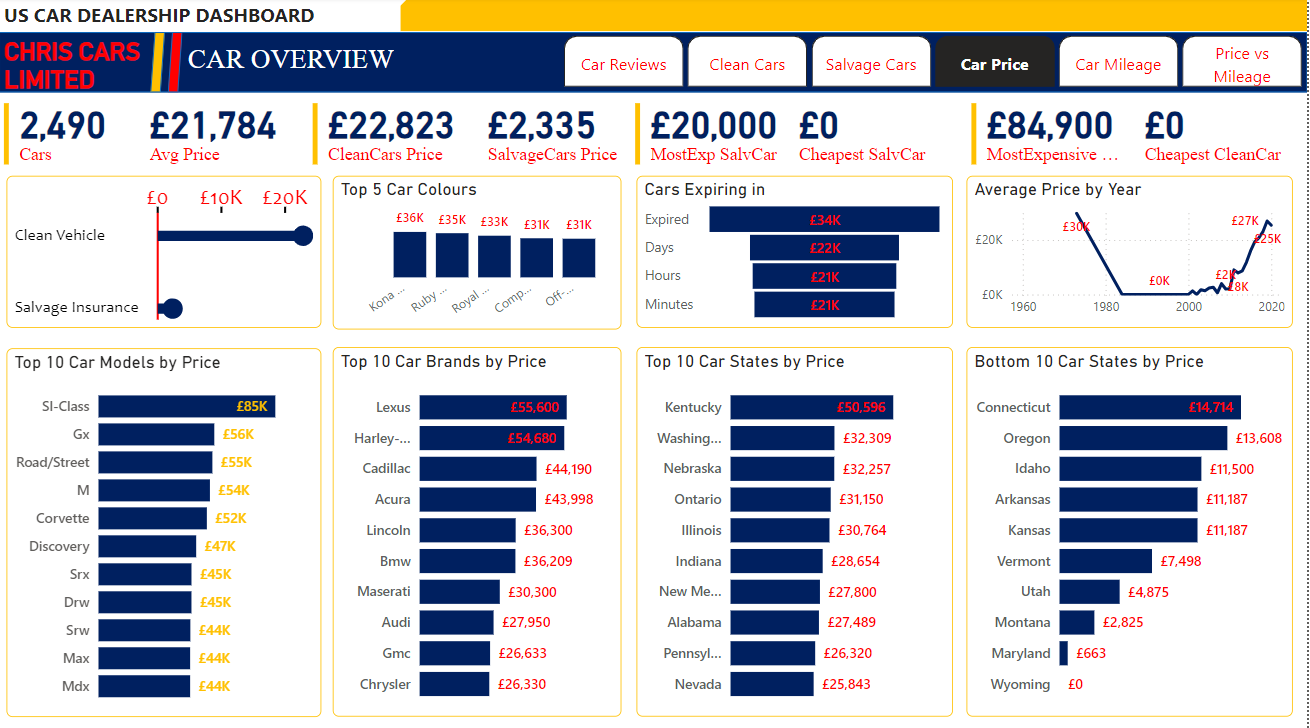

Layout of this report page (visuals, bound fields, positions):
{"tool":"powerbi","page":{"name":"Car Price","canvas":[1280,720],"ordinal":3},"visuals":[{"type":"shape","box":[148.4,33.8,14.5,59.1],"z":0,"group":"g1"},{"type":"shape","box":[392.1,0,887.9,33.8],"z":0},{"type":"shape","box":[165.3,33.8,14.5,59.1],"z":1000,"group":"g1"},{"type":"shape","box":[0,33.8,1280,59.1],"z":1000},{"type":"textbox","box":[0,0,400.5,45.8],"z":2000},{"type":"textbox","box":[179.8,39.8,220.8,53.1],"z":3000},{"type":"multiRowCard","fields":{"Values":["My Measures.Cars","My Measures.Average Price"]},"box":[0,99,280,75.8],"z":4000},{"type":"multiRowCard","fields":{"Values":["My Measures.CleanCars Price","My Measures.SalvageCars Price"]},"box":[302,99,337.5,75.8],"z":5000},{"type":"multiRowCard","fields":{"Values":["My Measures.MostExp SalvCar","My Measures.Cheapest SalvCar"]},"box":[617.5,99,315.5,75.8],"z":6000},{"type":"multiRowCard","fields":{"Values":["My Measures.MostExpensive CleanCar","My Measures.Cheapest CleanCar"]},"box":[946.5,99,333.8,75.8],"z":7000},{"type":"dotChart6B967E5FFF8E4679BF7C4102B3F6171F","fields":{"category":["USA_Cars_Facts.Title_status"],"value":["My Measures.Average Price"]},"box":[7.3,174.9,308.2,149.2],"z":8000},{"type":"barChart","title":"Top 10 Car Models by Price","fields":{"Category":["Car Model.Model"],"Y":["My Measures.Average Price"]},"box":[7.3,343.6,308.2,360.7],"z":9000},{"type":"clusteredBarChart","title":"Top 10 Car Brands by Price","fields":{"Category":["Car Brands.Brand"],"Y":["My Measures.Average Price"]},"box":[326.5,342.4,282.5,362],"z":10000},{"type":"clusteredColumnChart","title":"Top 5 Car Colours","fields":{"Category":["Car Color.Color"],"Y":["My Measures.Average Price"]},"box":[326.5,174.9,282.5,150.4],"z":11000},{"type":"funnel","title":"Cars Expiring in","fields":{"Category":["USA_Cars_Facts.Expiring in"],"Y":["My Measures.Average Price"]},"box":[623.6,174.9,309.4,149.2],"z":12000},{"type":"lineChart","fields":{"Category":["USA_Cars_Facts.Year"],"Y":["My Measures.Average Price"]},"box":[946.5,174.9,319.2,149.2],"z":13000},{"type":"textbox","box":[0,33.8,170.1,73.6],"z":14000},{"type":"group","id":"g1","title":"Group 1","box":[148.4,33.8,31.4,59.1],"z":15000},{"type":"clusteredBarChart","title":"Top 10 Car States by Price","fields":{"Y":["My Measures.Average Price"],"Category":["Car States.State"]},"box":[623.6,342.4,309.4,362],"z":16000},{"type":"clusteredBarChart","title":"Bottom 10 Car States by Price","fields":{"Category":["Car States.State"],"Y":["My Measures.Average Price"]},"box":[946.5,342.4,319.2,362],"z":17000},{"type":"pageNavigator","box":[552.4,37.9,727.6,50.1],"z":18000}]}

Visuals, with their boxes in screenshot pixels (x1, y1, x2, y2), scaled from the page's 1280x720 canvas onto the 1310x728 screenshot:
shape: 152, 34, 167, 94
shape: 401, 0, 1309, 34
shape: 169, 34, 184, 94
shape: 0, 34, 1309, 94
textbox: 0, 0, 410, 46
textbox: 184, 40, 410, 94
multiRowCard - My Measures.Cars x My Measures.Average Price: 0, 100, 287, 177
multiRowCard - My Measures.CleanCars Price x My Measures.SalvageCars Price: 309, 100, 654, 177
multiRowCard - My Measures.MostExp SalvCar x My Measures.Cheapest SalvCar: 632, 100, 955, 177
multiRowCard - My Measures.MostExpensive CleanCar x My Measures.Cheapest CleanCar: 969, 100, 1309, 177
dotChart6B967E5FFF8E4679BF7C4102B3F6171F - USA_Cars_Facts.Title_status x My Measures.Average Price: 7, 177, 323, 328
"Top 10 Car Models by Price" barChart: 7, 347, 323, 712
"Top 10 Car Brands by Price" clusteredBarChart: 334, 346, 623, 712
"Top 5 Car Colours" clusteredColumnChart: 334, 177, 623, 329
"Cars Expiring in" funnel: 638, 177, 955, 328
lineChart - USA_Cars_Facts.Year x My Measures.Average Price: 969, 177, 1295, 328
textbox: 0, 34, 174, 109
"Group 1" group: 152, 34, 184, 94
"Top 10 Car States by Price" clusteredBarChart: 638, 346, 955, 712
"Bottom 10 Car States by Price" clusteredBarChart: 969, 346, 1295, 712
pageNavigator: 565, 38, 1309, 89
